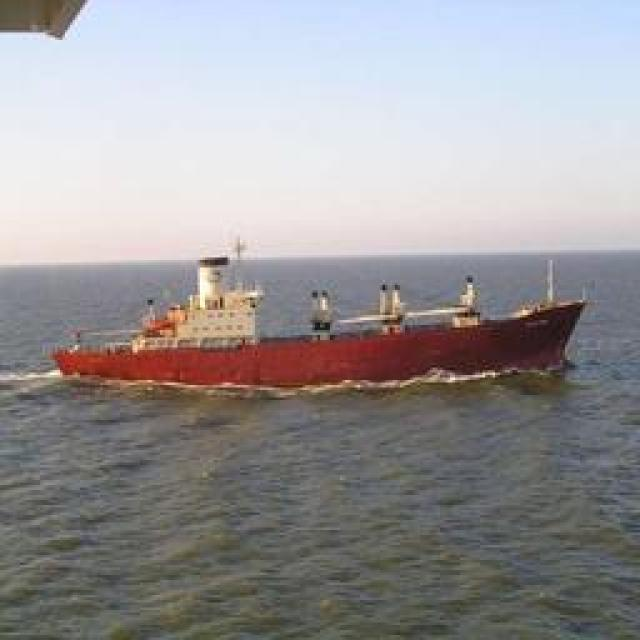CIV_Ship: (41, 256, 596, 394)
